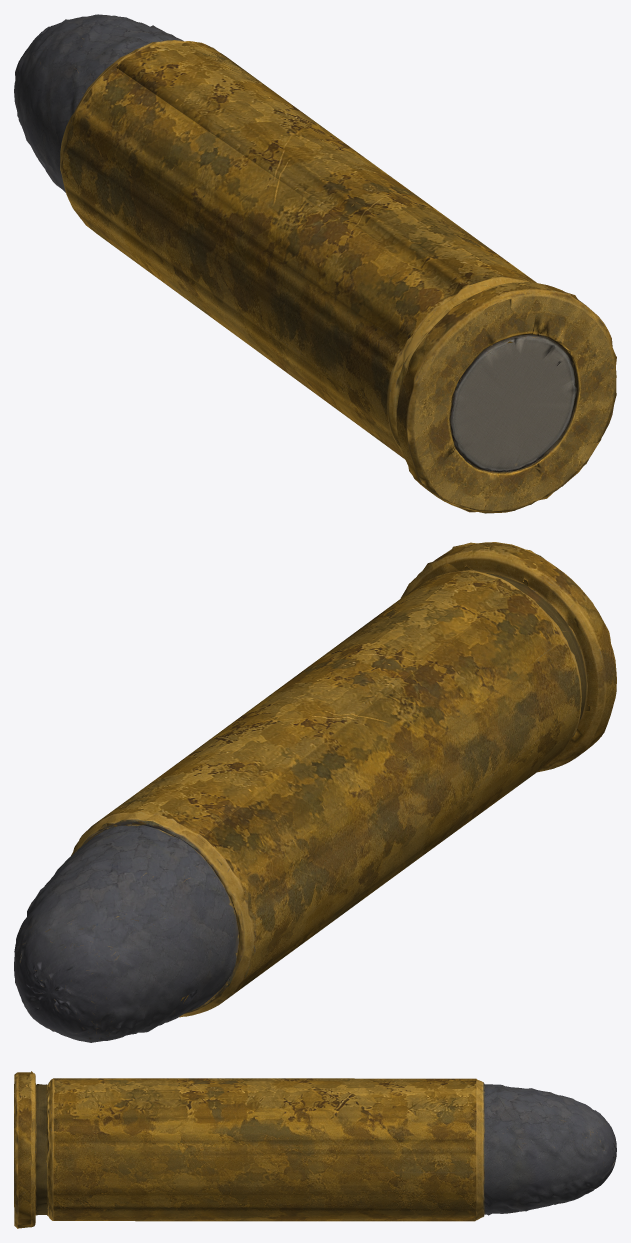
File: rv_cartridge.glb
3 renders of one model, top to bottom at view 1: azimuth 30°, elevation 25°; view 2: azimuth 150°, elevation 25°; view 3: azimuth 270°, elevation 25°, orthographic. The views are drawn at different scales.
Visible parts, largest first — view 1: Mesh_0; view 2: Mesh_0; view 3: Mesh_0.
Part boxes in pixels (x1=…): Mesh_0: x1=14, y1=14, x2=616, y2=513; Mesh_0: x1=14, y1=542, x2=616, y2=1042; Mesh_0: x1=14, y1=1071, x2=616, y2=1228.
Size of the model in its own units: 0.013 by 0.013 by 0.05.
Materials: 1 (1 with a texture image).
